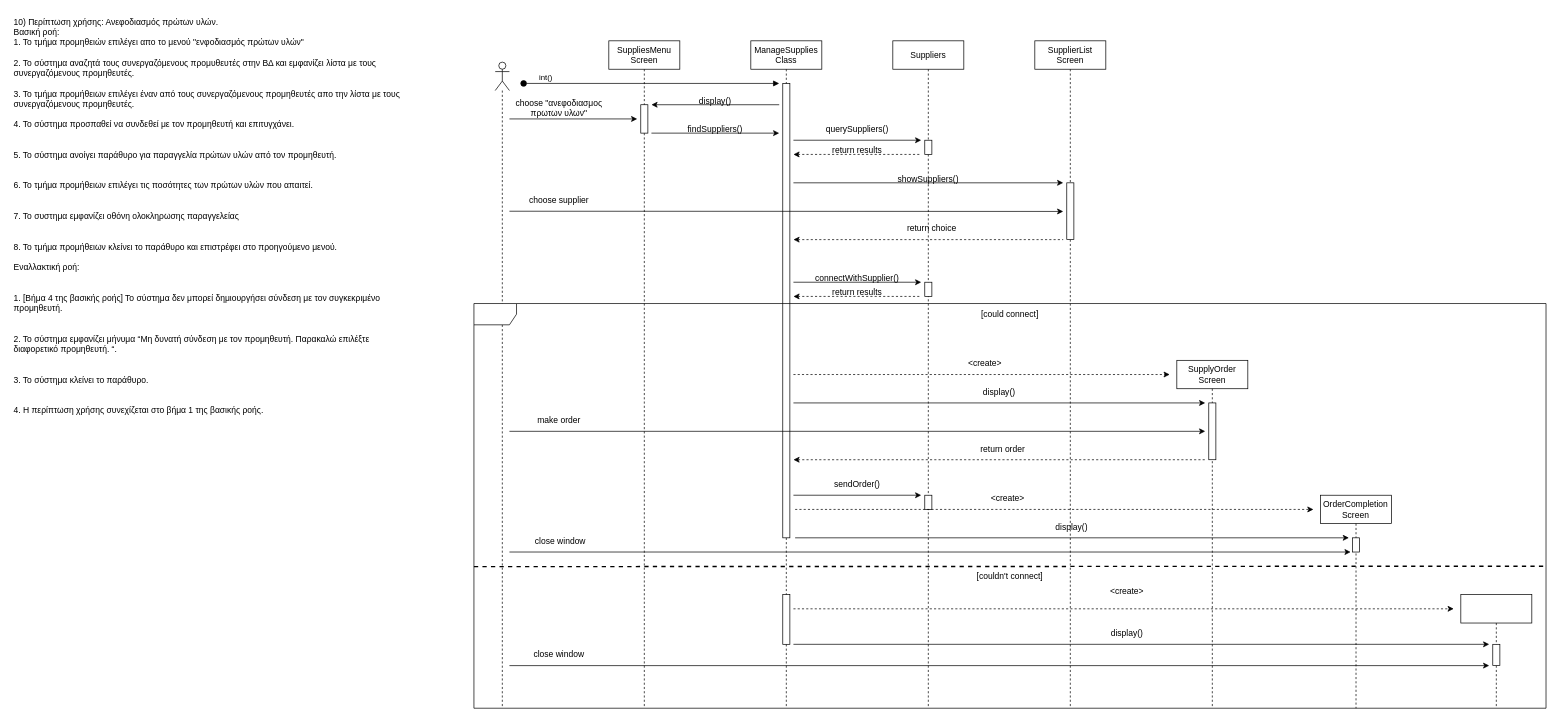
This 1558x721 diagram has some shape labels left out. The box of each missing label's shape, as (x1, y1, x2, y2) in pixels:
alt: (473, 303, 1546, 708)
ConnectionError Screen: (1460, 594, 1532, 708)
